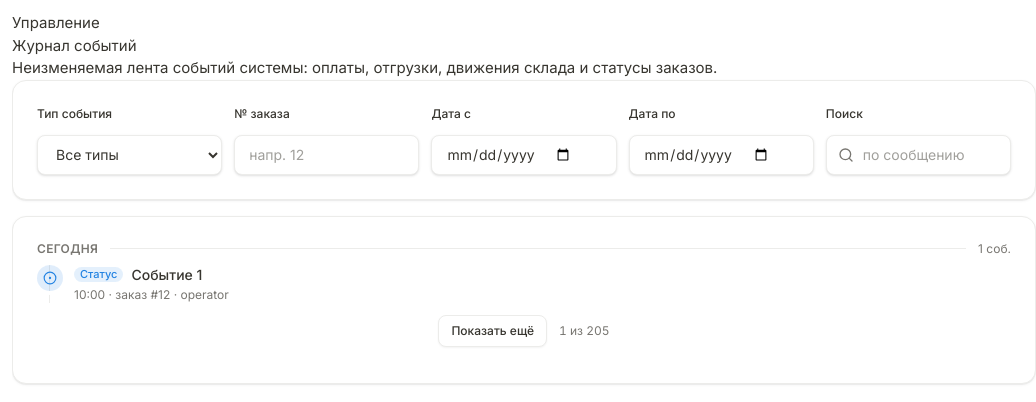
EventsPage lazy pagination › догружает следующую страницу в конец ленты
Expected: the text "Событие 1" is shown, [132,264,202,284]
Expected: the text "1 из 205" is shown, [559,322,610,338]
Click the button "Показать ещё" at x=493, y=330, box [438,314,547,346]
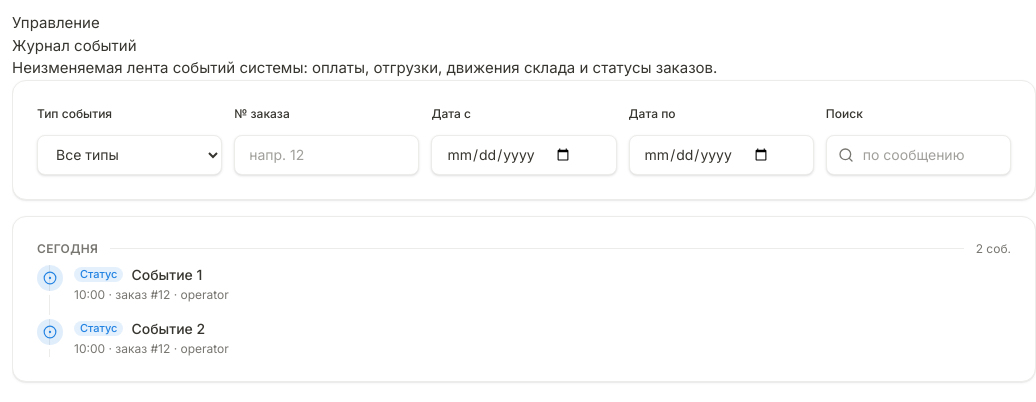
Expected: the text "Событие 1" is shown, [132,264,202,284]
Now the text "Событие 2" is shown, box [132,318,205,338]
Now the button "Показать ещё" is gone
